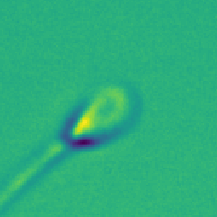normal: (1, 139, 66, 214)
